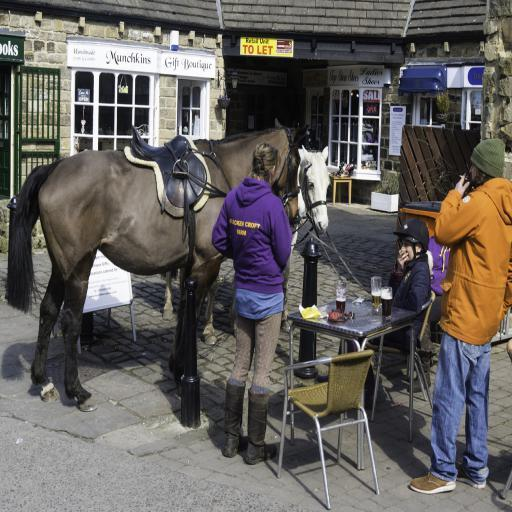horse: (6, 118, 310, 412), (159, 142, 331, 346)
